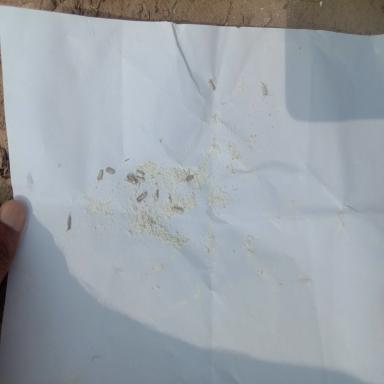pbw: (260, 80, 275, 100), (124, 172, 137, 186), (135, 191, 147, 204), (65, 212, 70, 232), (172, 204, 183, 213), (208, 79, 216, 91), (97, 170, 103, 180), (105, 168, 115, 174), (154, 189, 159, 201), (186, 174, 194, 181), (136, 175, 144, 182), (167, 196, 172, 202)
